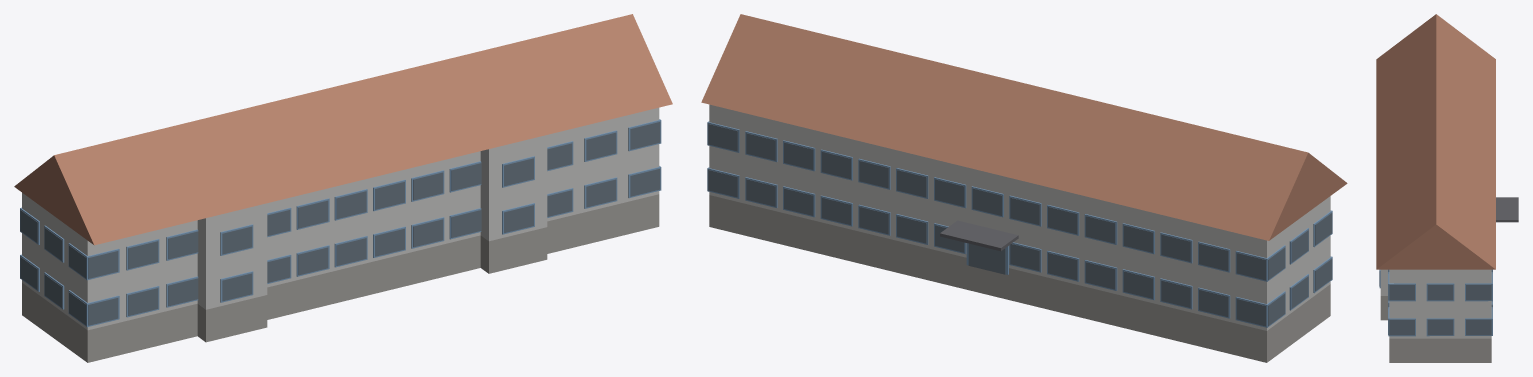
The model's file is landmark-school-christliche-schule-kandern.glb.
The picture shows the model from 3 angles, left to right: view 1: azimuth 30°, elevation 25°; view 2: azimuth 150°, elevation 25°; view 3: azimuth 270°, elevation 25°; orthographic projection. The views are drawn at different scales.
Visible parts, largest first — view 1: building; view 2: building; view 3: building.
Boxes of the visible parts, x1,y1,x2,y2 form: building: (14,14,672,362); building: (701,14,1347,362); building: (1376,14,1518,362).
Size of the model in its own units: 46.51 by 14.47 by 13.28.
